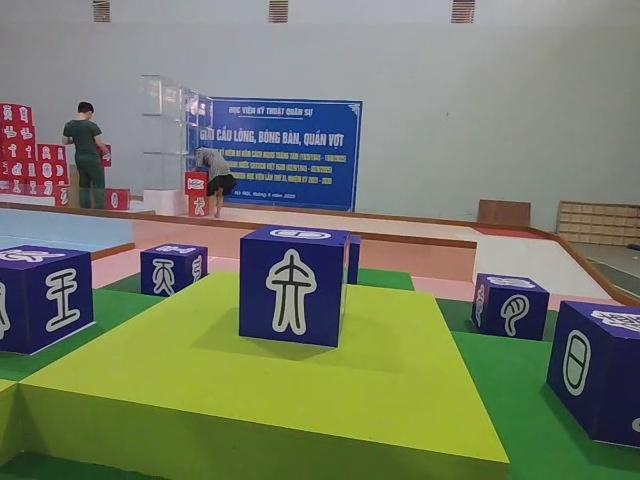R2 Fake Blue: (238, 225, 356, 350), (550, 301, 640, 458), (2, 245, 96, 356), (472, 275, 551, 344), (138, 244, 207, 298)
